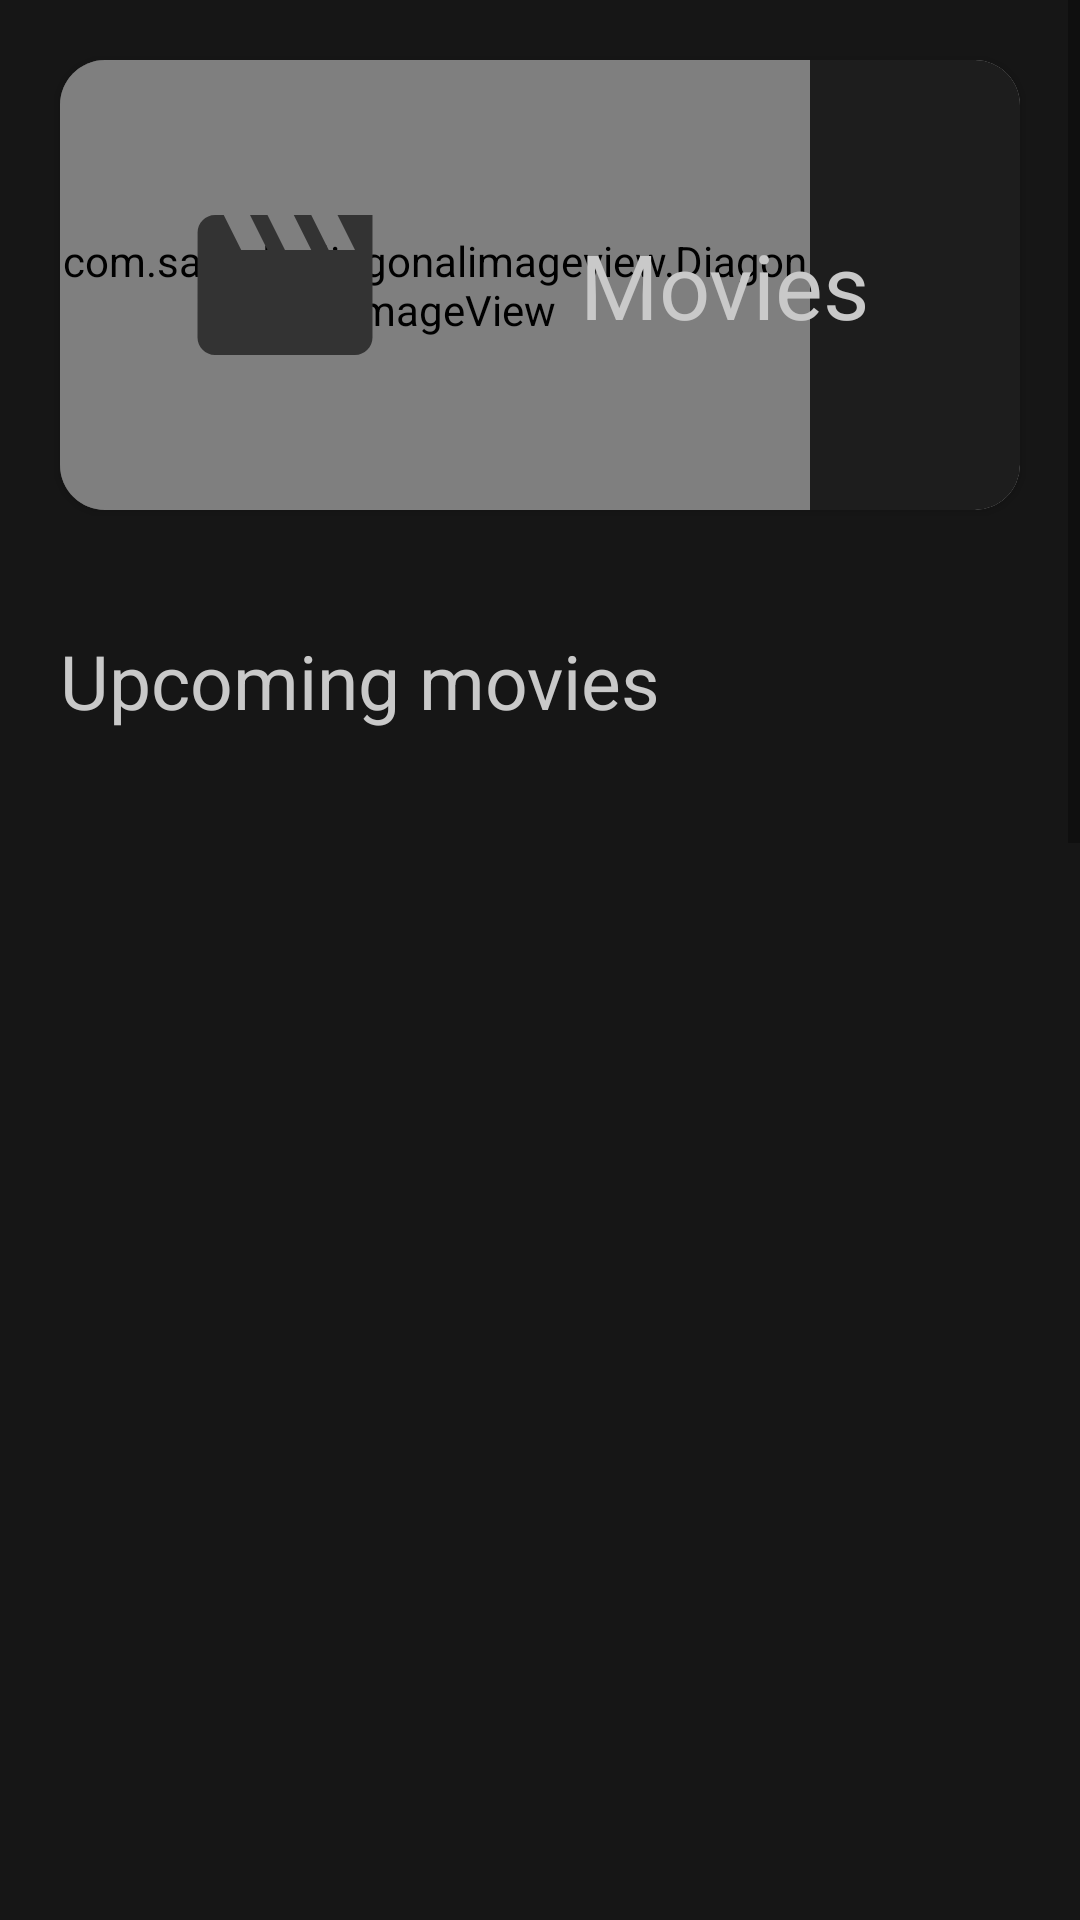

Locate icon controls on the screen. Image size 1080w x 1920h, boxes as (left=x1, top=y1, right=x2, bottom=y2).
movies: (left=181, top=215, right=390, bottom=355)
